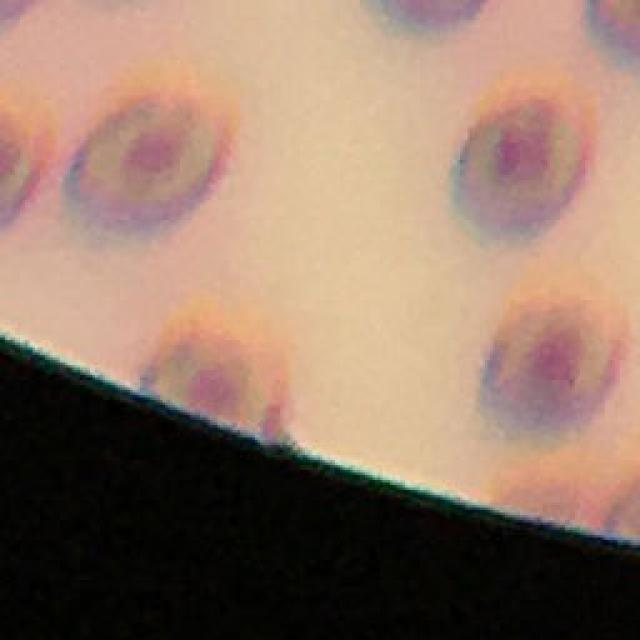RBC: (61, 89, 236, 250), (449, 91, 599, 251), (478, 283, 626, 445), (140, 300, 288, 438)
